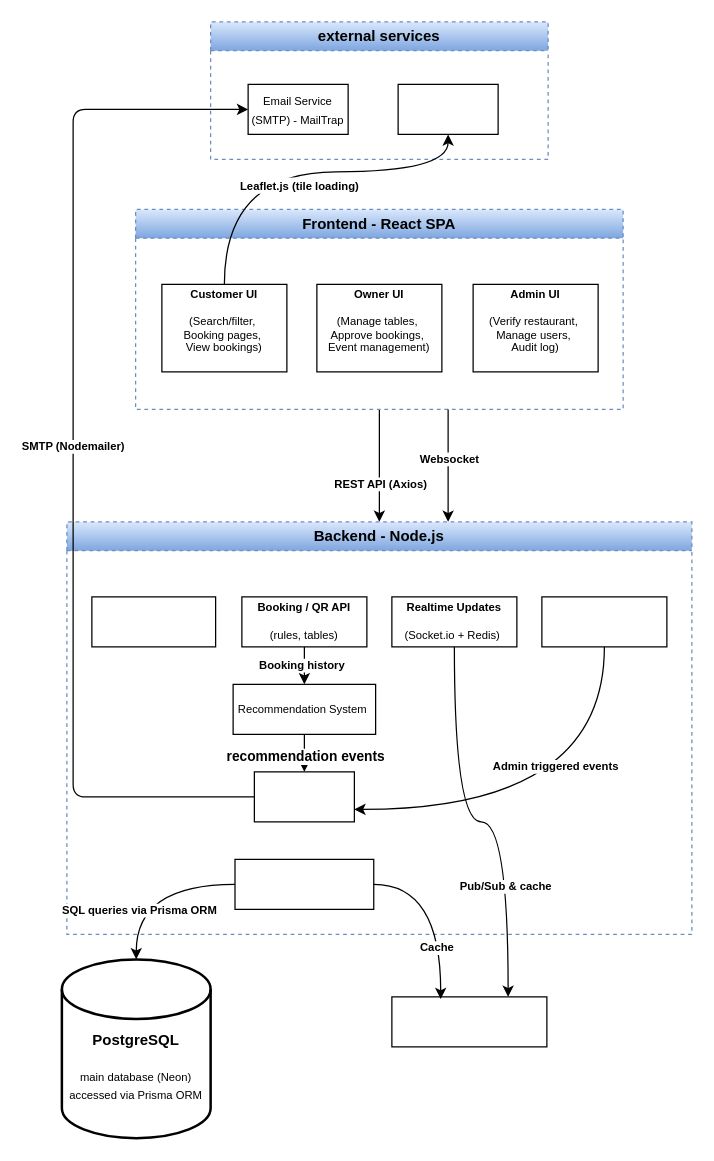
This 714x1161 diagram has some shape labels left out. The centre of each missing label's shape, as x and y in pixels:
"Admin & Owner API (verification, logs)" belongs at point (604, 621).
"Auth & RBAC API (JWT, bcrypt)" belongs at point (153, 621).
"Map Layer - Leaflet + OSM Tiles" belongs at point (447, 108).
"Node.js / Express Core (Application Layer)" belongs at point (304, 883).
"Notifications Service" belongs at point (303, 796).
"Redis (Cache / PubSub) (Upstash Redis)" belongs at point (469, 1021).
